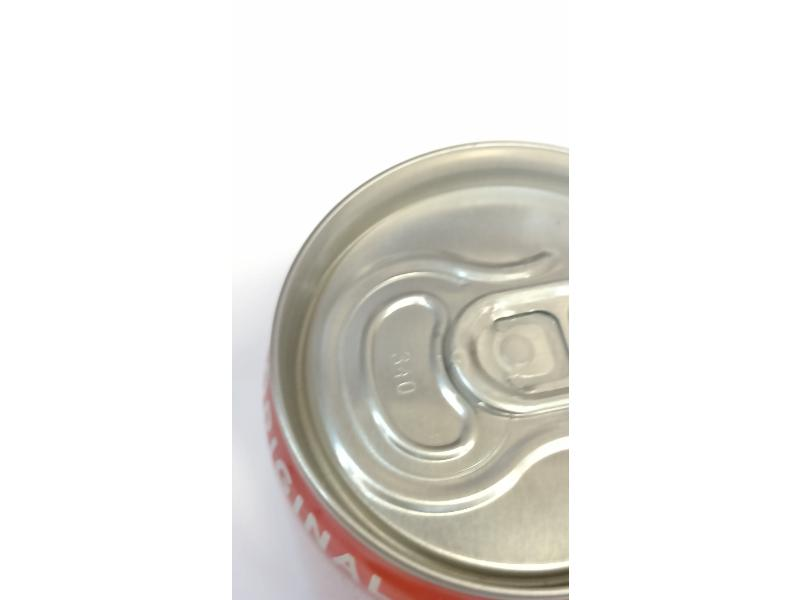can: (263, 136, 569, 593)
